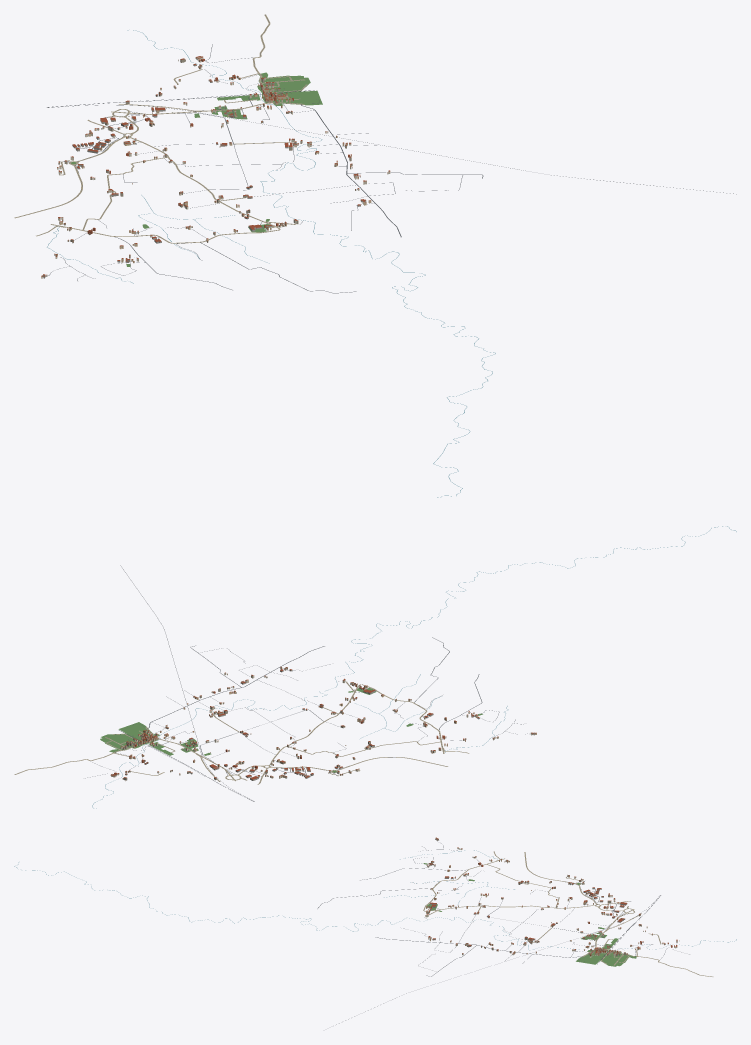
Rendered from coduro.glb.
The picture shows the model from 3 angles, top to bottom: view 1: azimuth 30°, elevation 25°; view 2: azimuth 150°, elevation 25°; view 3: azimuth 270°, elevation 25°; orthographic projection. The views are drawn at different scales.
Visible parts, largest first — view 1: quartiere-coduro; view 2: quartiere-coduro; view 3: quartiere-coduro.
Part boxes in pixels (box(x1,y1,x2,y2)): quartiere-coduro: box(14, 14, 736, 497); quartiere-coduro: box(14, 526, 736, 808); quartiere-coduro: box(14, 837, 736, 1024).
Size of the model in its own units: 5858 by 32.06 by 9337.
